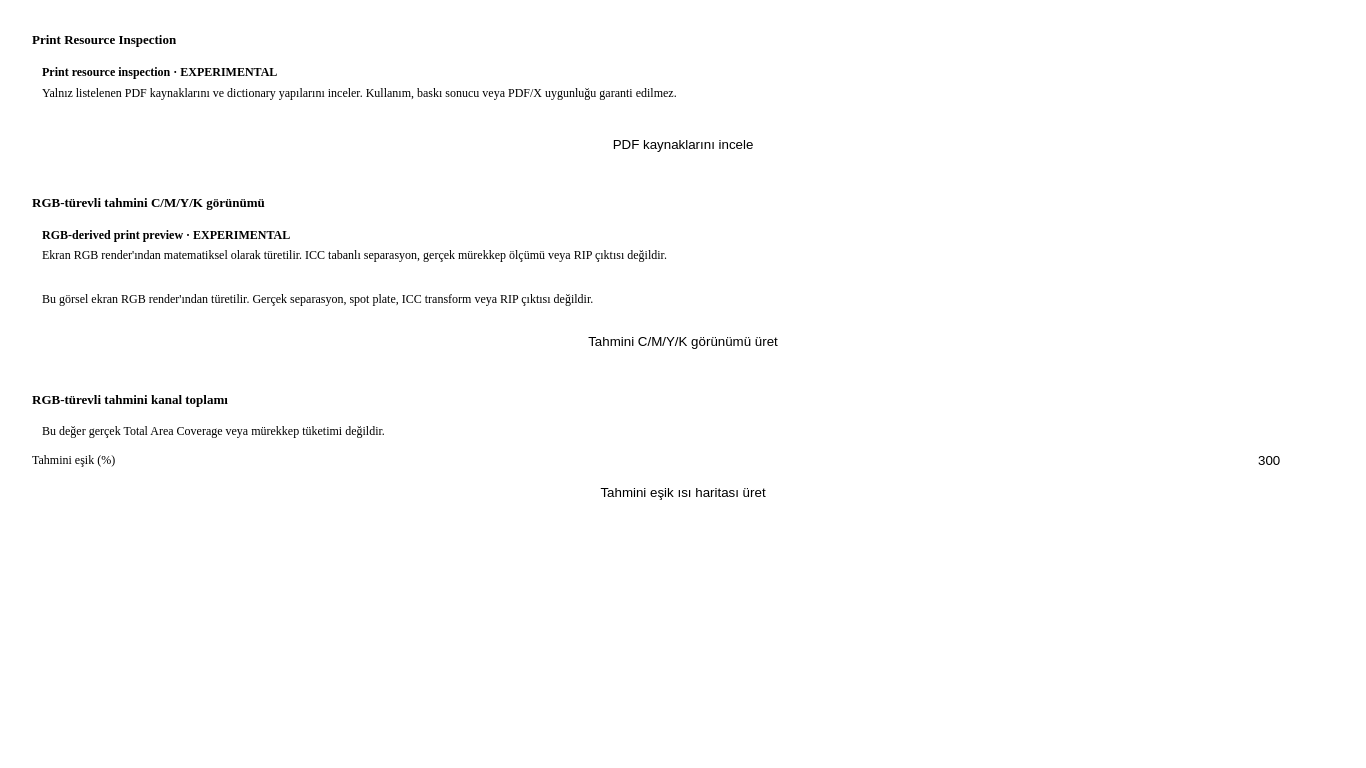
Print inspection and approximate preview panel › sends authoritative page identity and renders read-only inspection coverage
The image size is (1366, 768).
Click the button "PDF kaynaklarını incele". click: click(683, 144)
box: [32,130,1334,159]
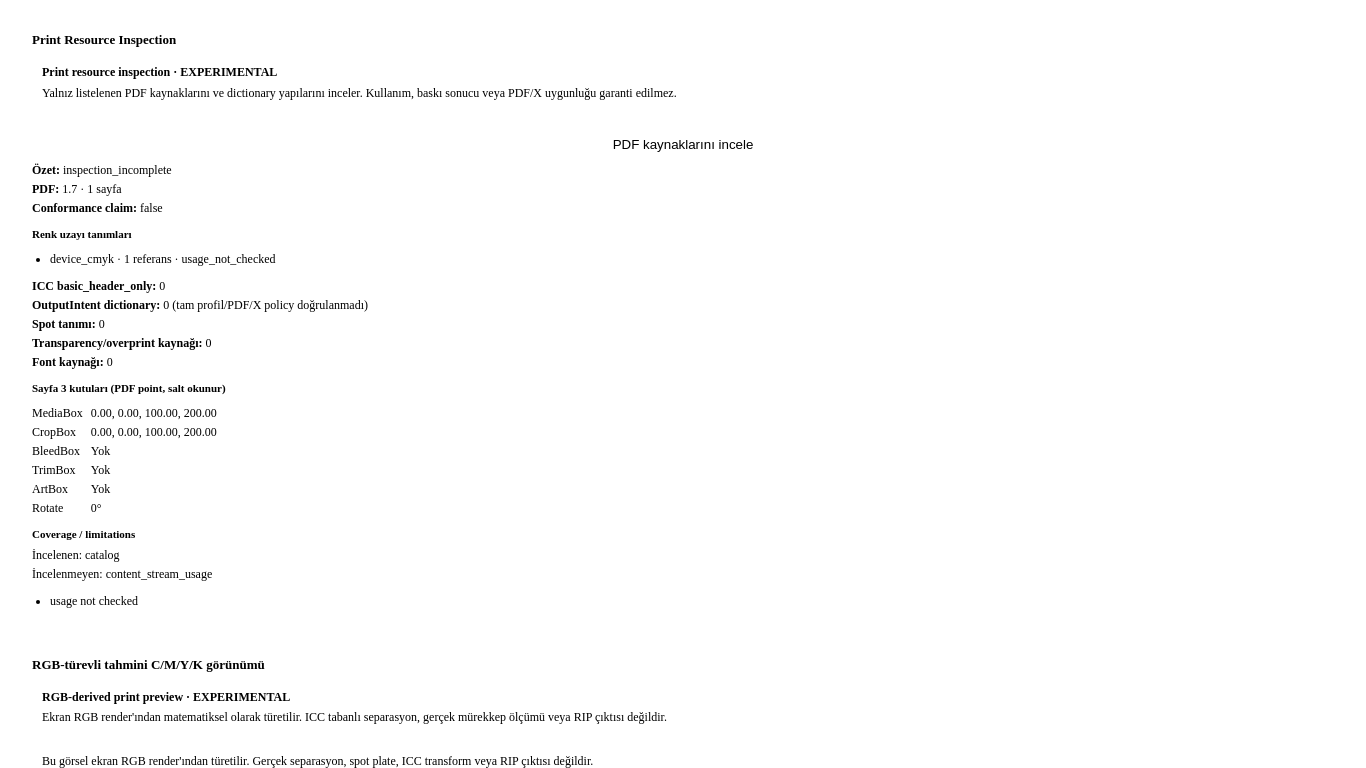
Expected: the list item "device_cmyk · 1 referans · usage_not_checked" is shown, [50,252,276,266]
Expected: the text "MediaBox" is shown, [32,406,83,421]
Expected: the text "İncelenmeyen: content_stream_usage" is shown, [32,567,212,581]
